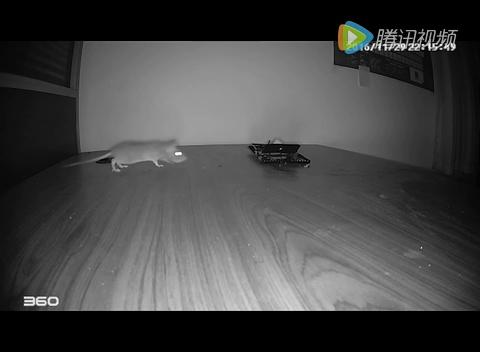rat: (96, 133, 188, 174)
